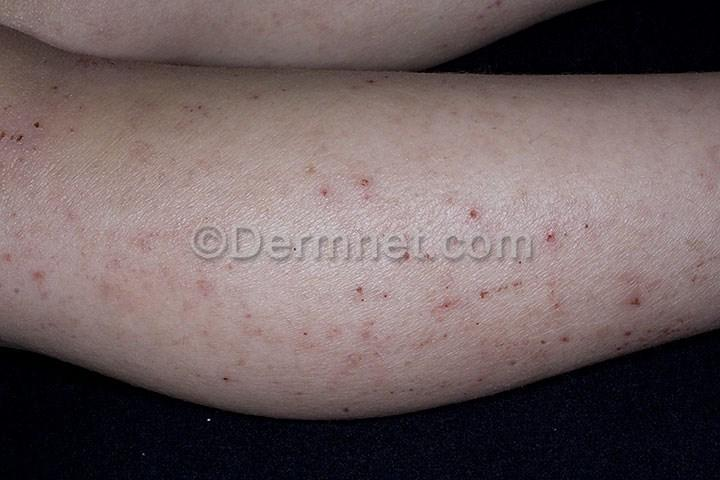exudacion 1: (207, 161, 719, 406), (0, 52, 126, 195)
